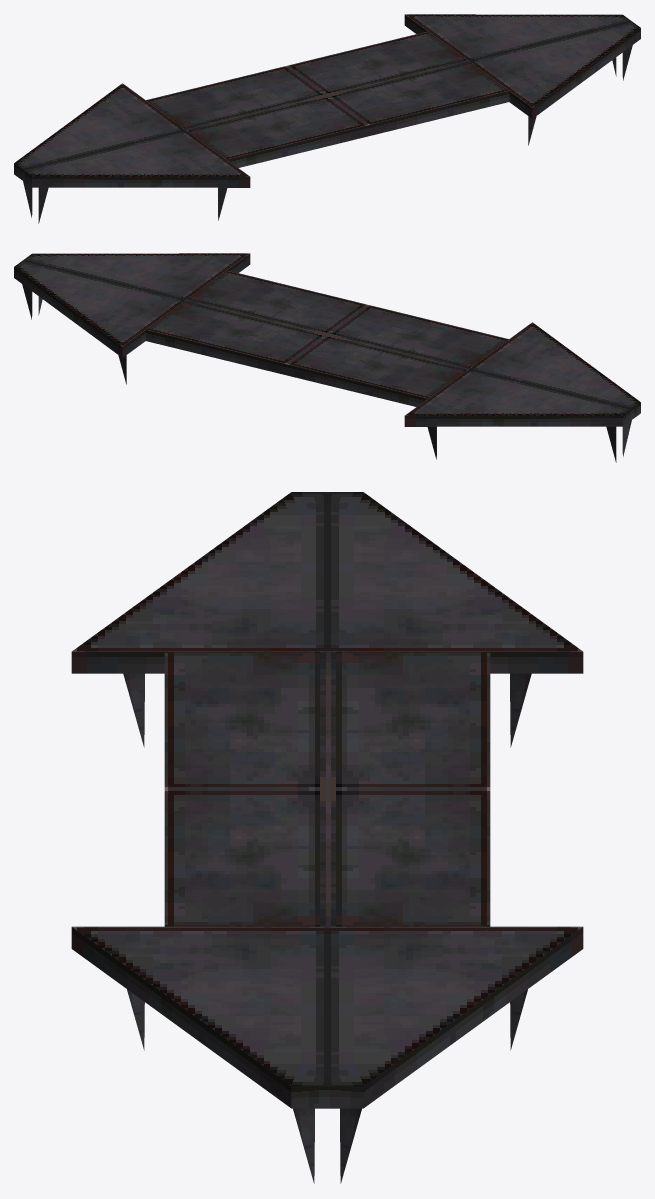
The model's file is frn_jedi_dark_table_l2.fbx.
The picture shows the model from 3 angles, top to bottom: view 1: azimuth 30°, elevation 25°; view 2: azimuth 150°, elevation 25°; view 3: azimuth 270°, elevation 25°; orthographic projection. The views are drawn at different scales.
Visible parts, largest first — view 1: mesh_node; view 2: mesh_node; view 3: mesh_node.
Boxes of the visible parts, x1,y1,x2,y2 form: mesh_node: (14, 14, 640, 223); mesh_node: (14, 253, 640, 462); mesh_node: (71, 492, 583, 1183).
Size of the model in its own units: 8.64 by 0.75 by 3.14.
